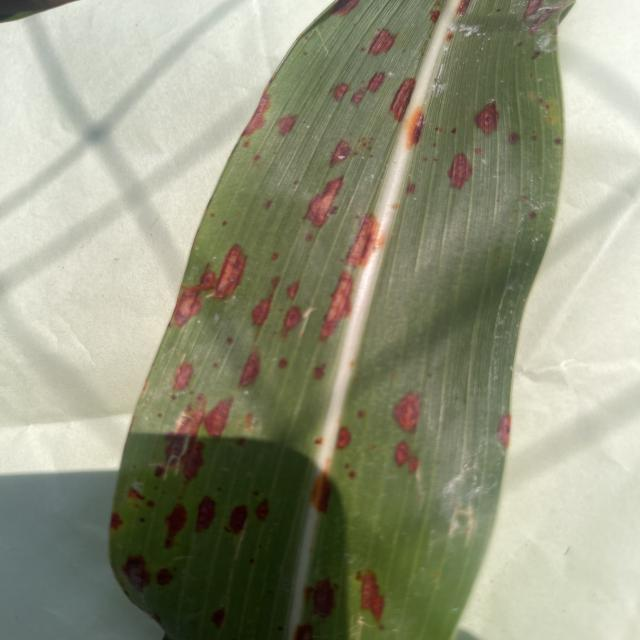millet_rust: (110, 0, 575, 640)
